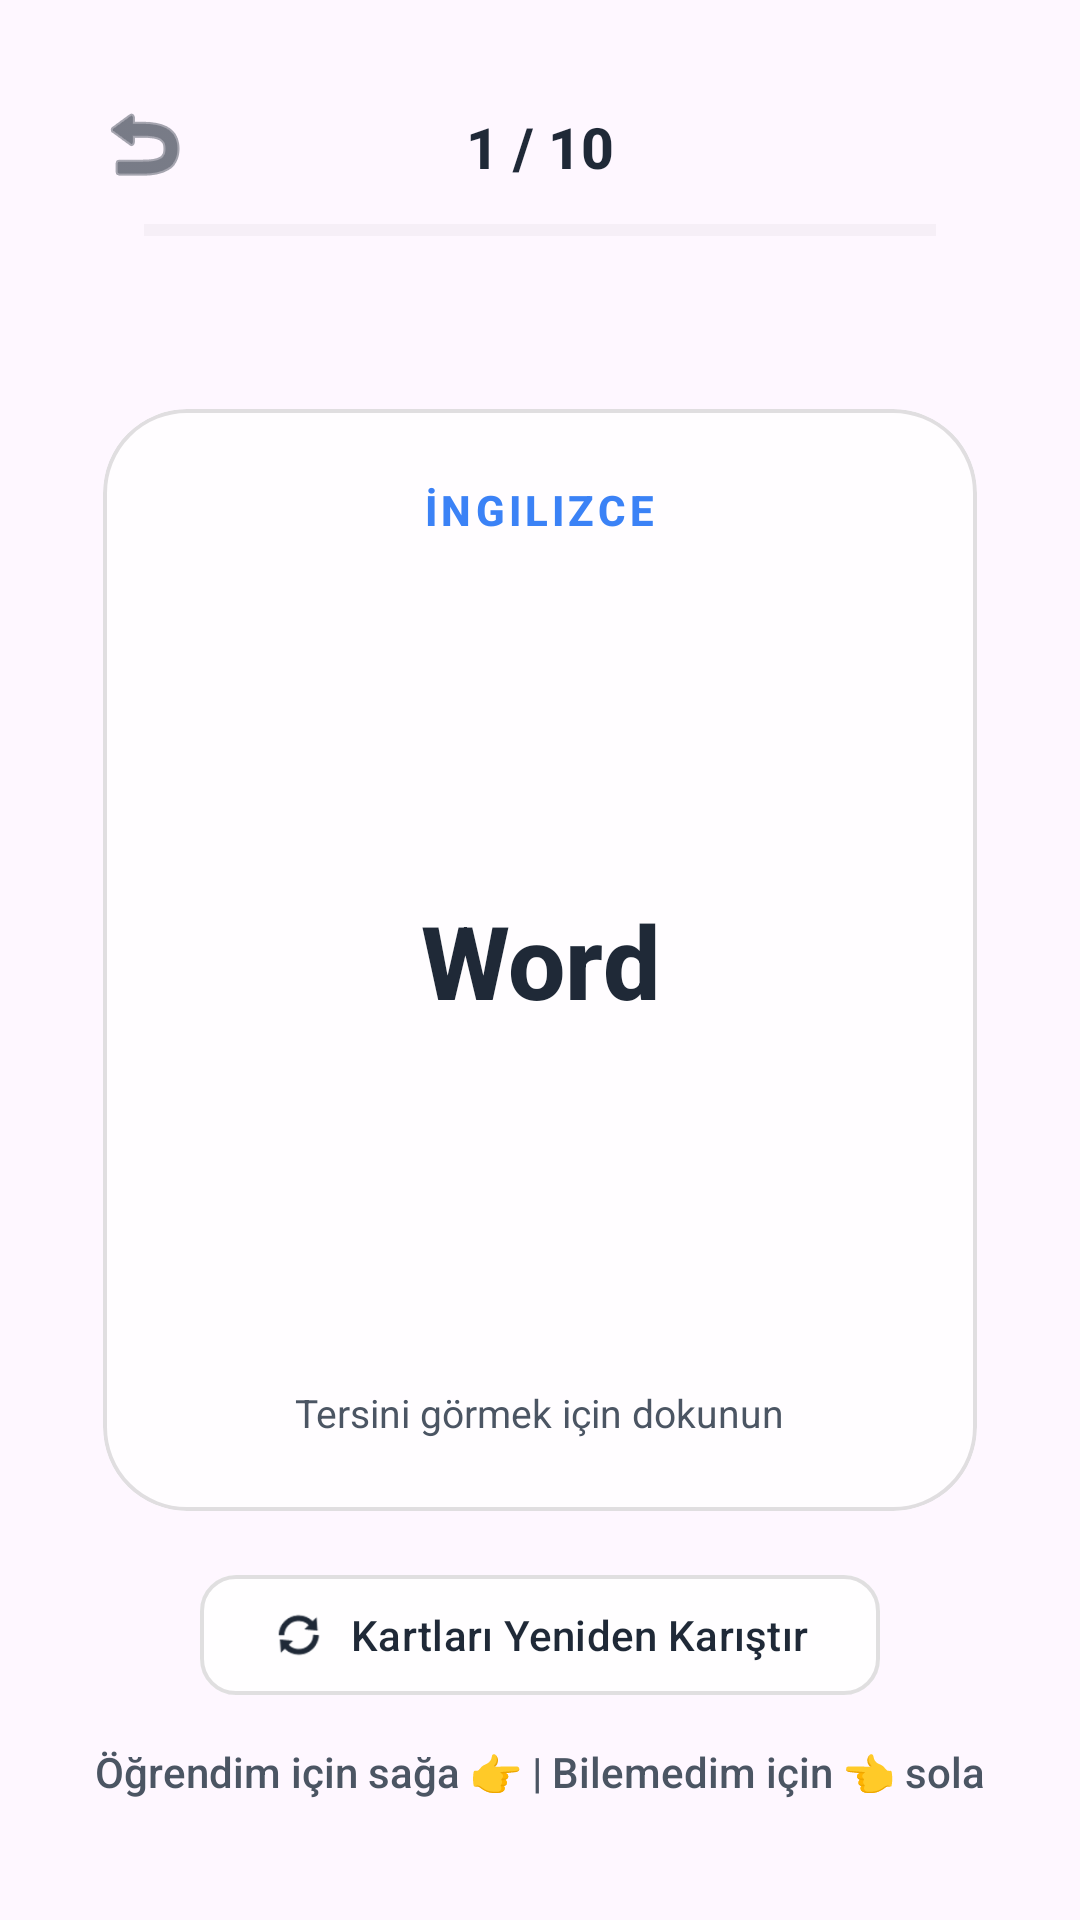

Point at icon controls on the screen. Image size 1080w x 1920h, points as point (x, y).
Geri: point (145, 144)
